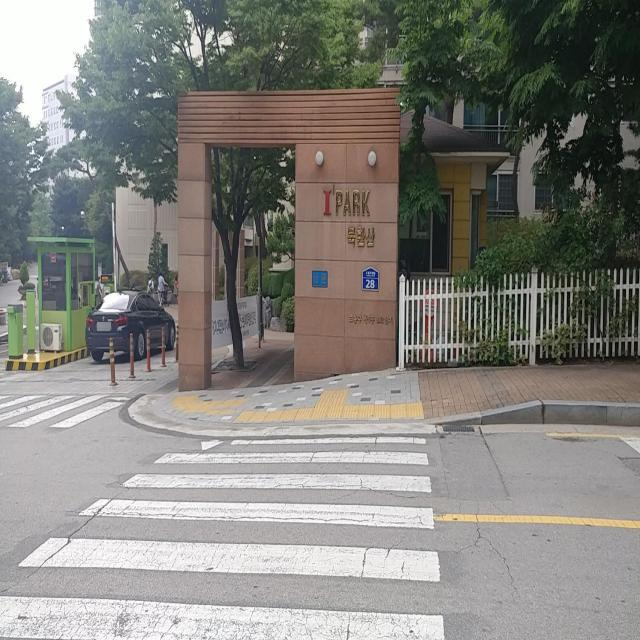횡단보도: (0, 432, 448, 640), (1, 386, 130, 430)
